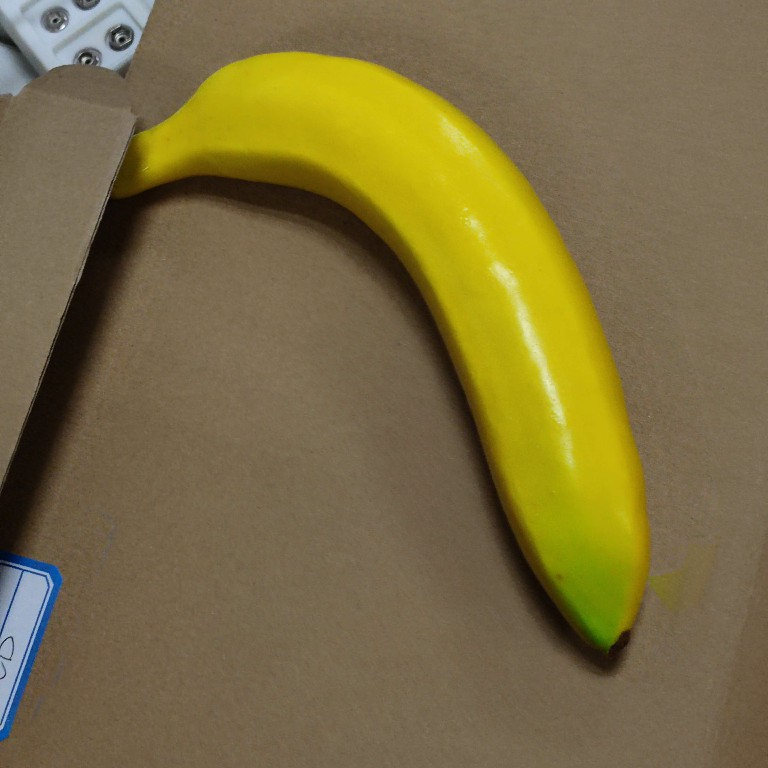fruit_banana: (91, 45, 668, 675)
